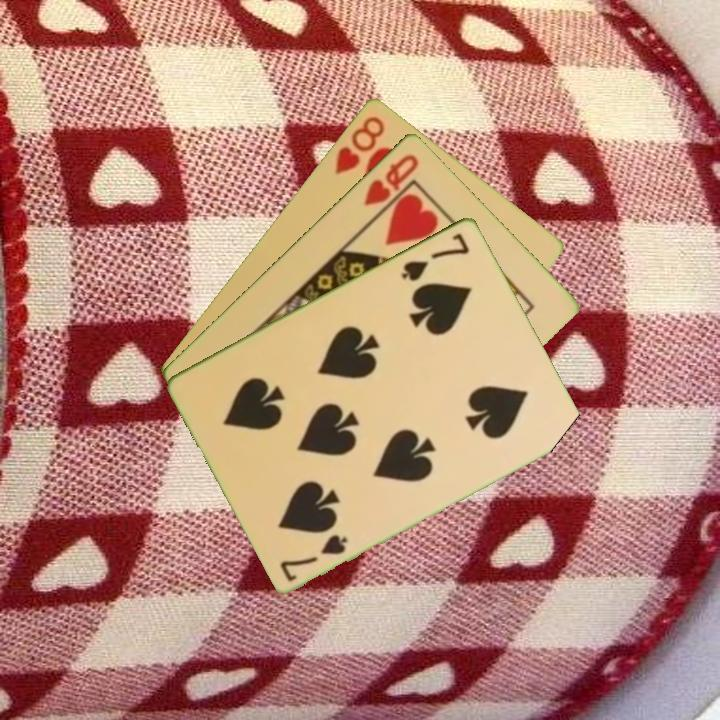7s: (397, 228, 472, 284), (276, 530, 351, 584)
8h: (331, 112, 388, 177)
Qh: (360, 149, 422, 208)
